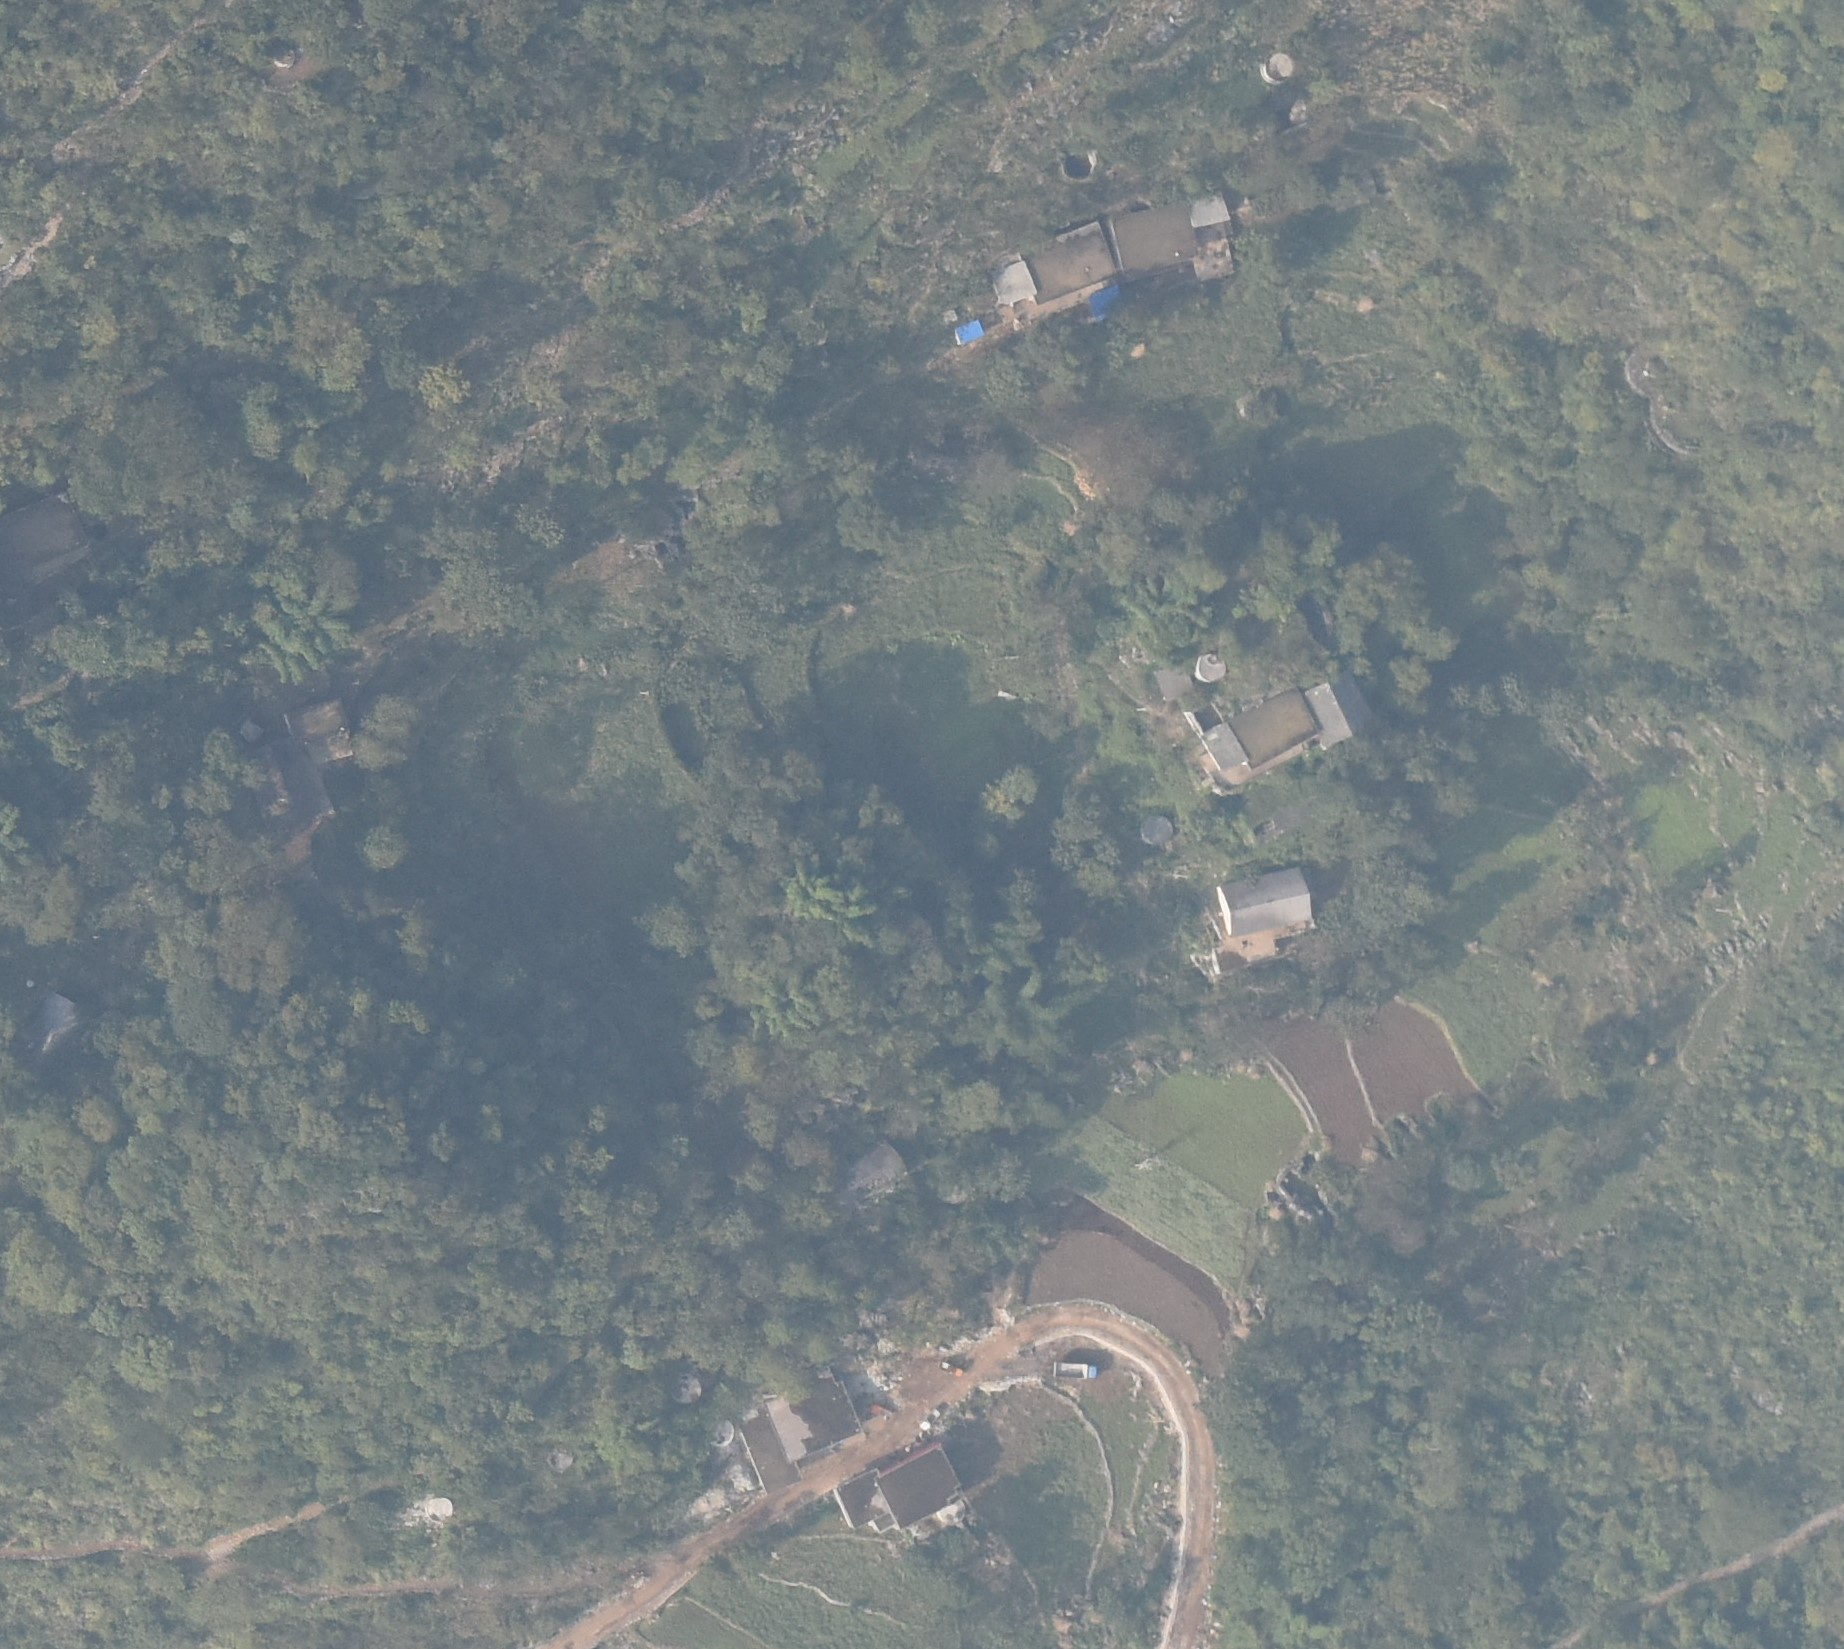building: (1015, 210, 1121, 308), (758, 1383, 862, 1466), (1228, 688, 1325, 769), (1106, 198, 1202, 279), (874, 1444, 960, 1532), (1212, 866, 1317, 936), (1304, 670, 1370, 753), (1183, 701, 1251, 779), (831, 1470, 886, 1530), (986, 253, 1036, 305), (1185, 236, 1237, 284), (1187, 186, 1233, 229)
prefabricated-house: (951, 317, 988, 348)
vehicle: (1046, 1357, 1101, 1386)
well: (1056, 143, 1102, 185), (1258, 48, 1299, 89), (1191, 649, 1232, 686), (1134, 811, 1176, 847), (1088, 286, 1130, 319), (698, 1414, 737, 1448), (669, 1370, 704, 1407), (935, 1499, 970, 1526)
